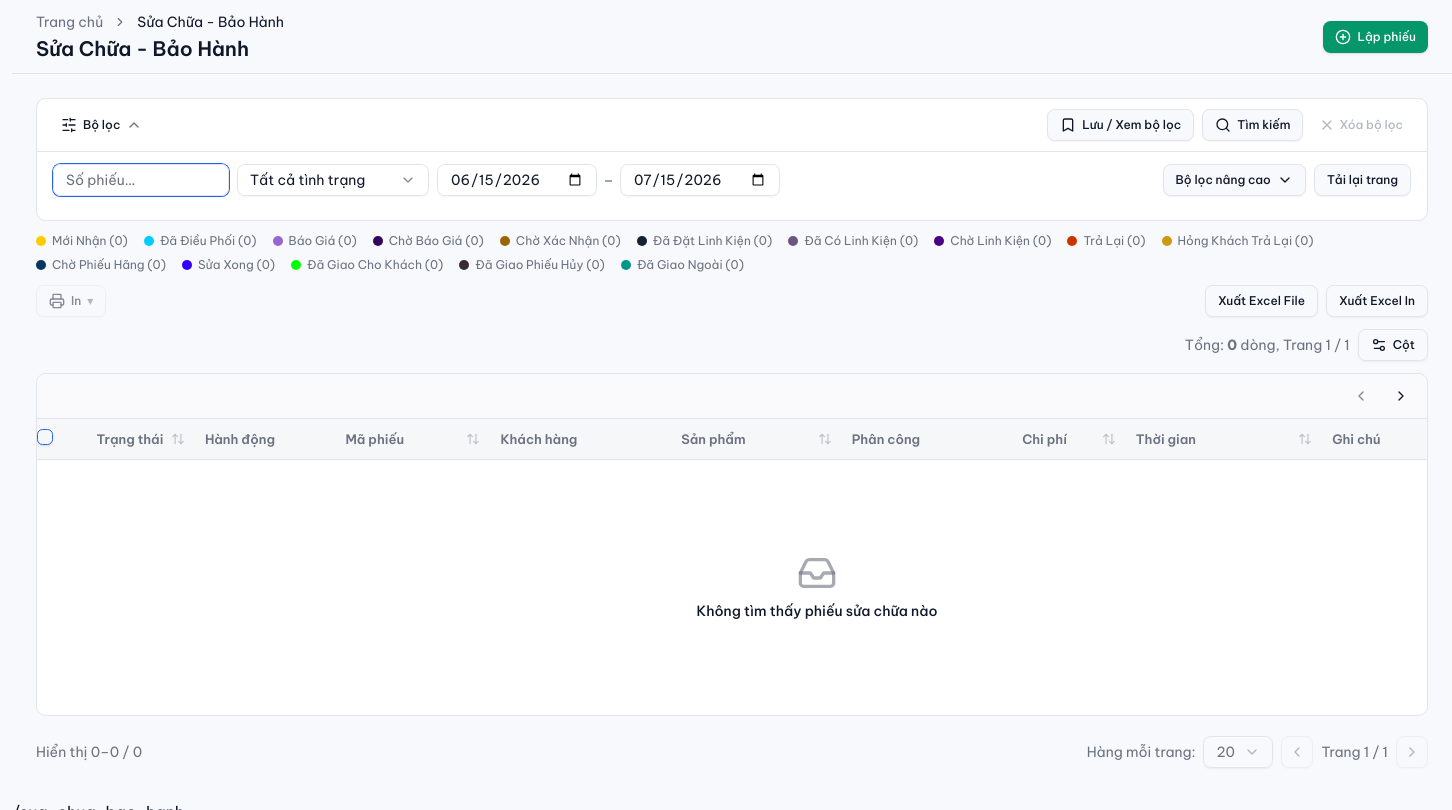
Test: RepairListPage actions › owns one Lập phiếu action plus legacy search/reload controls
The width and height of the screenshot is (1452, 810).
expect the button "Tìm kiếm" is shown: met, box top-left (1202, 109), bottom-right (1303, 141)
expect the button "Tải lại trang" is shown: met, box top-left (1314, 164), bottom-right (1411, 196)
Click the button "Lập phiếu" at (1376, 36), box top-left (1323, 20), bottom-right (1428, 52)
(page scrolled)
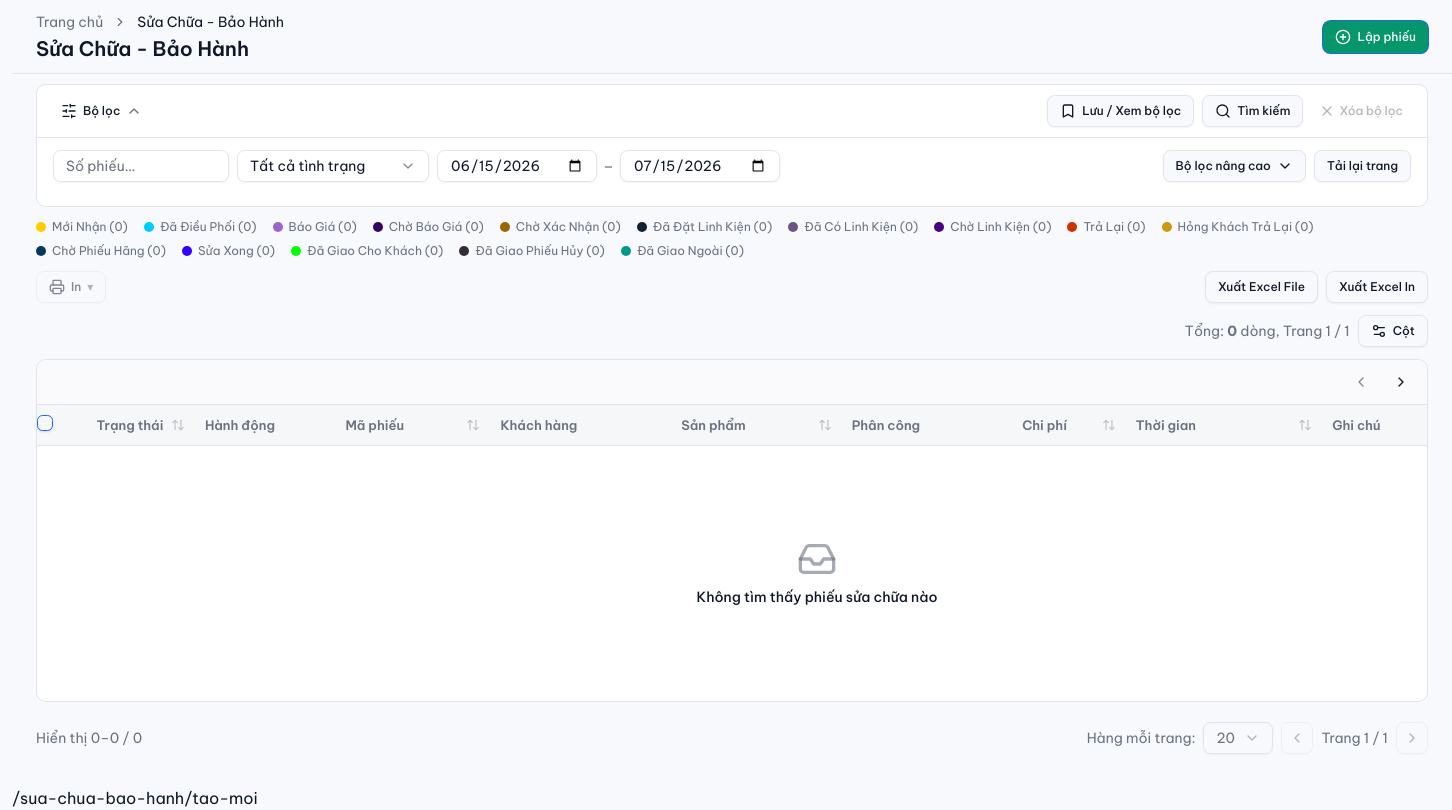
expect the text with test id "location" reads "/sua-chua-bao-hanh/tao-moi": met, box top-left (12, 788), bottom-right (258, 808)
